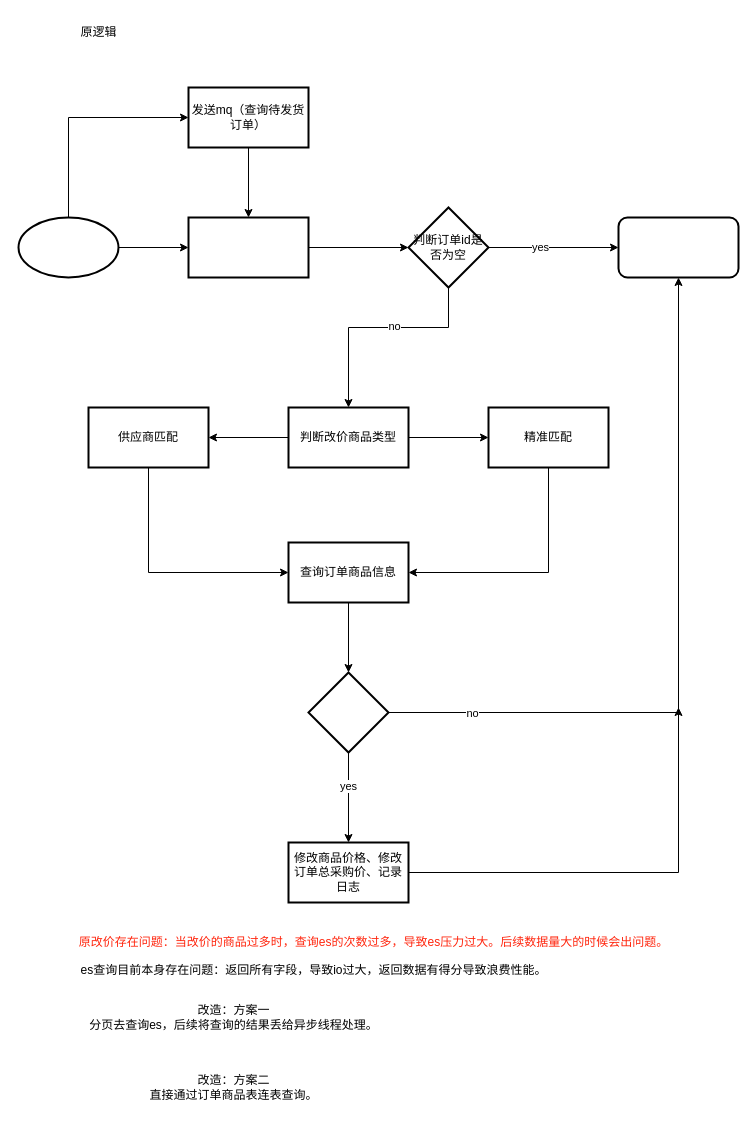
This 756x1124 diagram has some shape labels left out. Each missing label, with the centre of its shape:
判断订单商品是否存在: [348,712]
改价（开始）: [68,247]
根据uuid和订单状态(XXX)查询订单id【查询es】: [248,247]
结束: [678,247]
